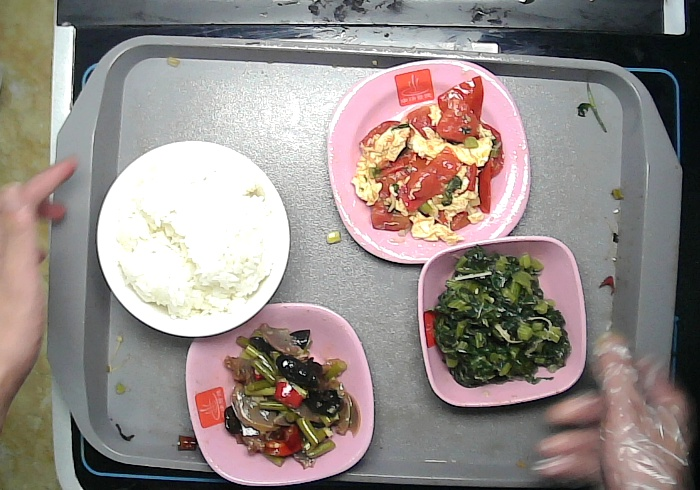SHKJ-Fan_Wan: (97, 135, 293, 340)
SHKJ-Fen_Se_Cai_Die: (177, 300, 381, 489)
SHKJ-Fen_Se_Si_Fang_Cai_Die: (325, 57, 535, 268)
SHKJ-Fen_Se_Xiao_Fang_Die: (414, 235, 593, 410)
